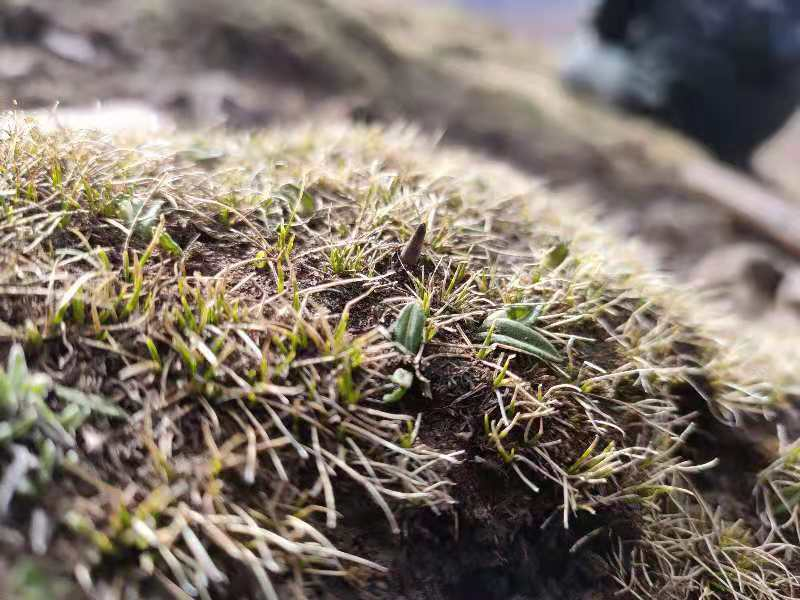Chongcao: (399, 220, 428, 266)
